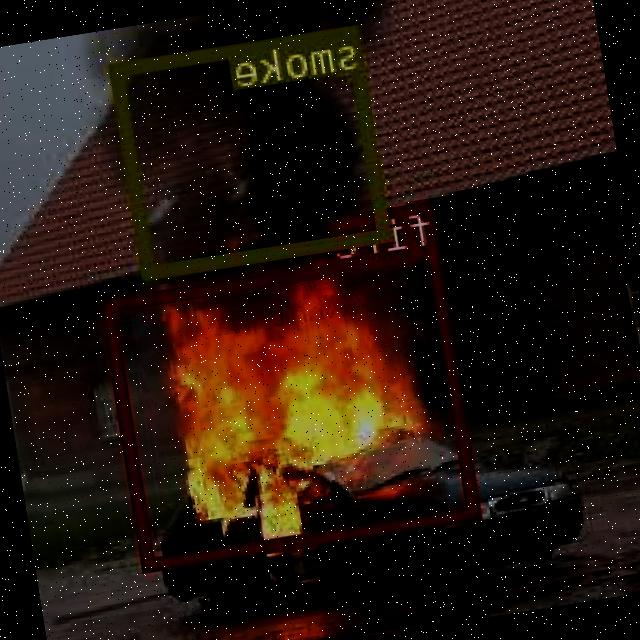fire: (102, 245, 482, 569)
smoke: (114, 23, 392, 278)
